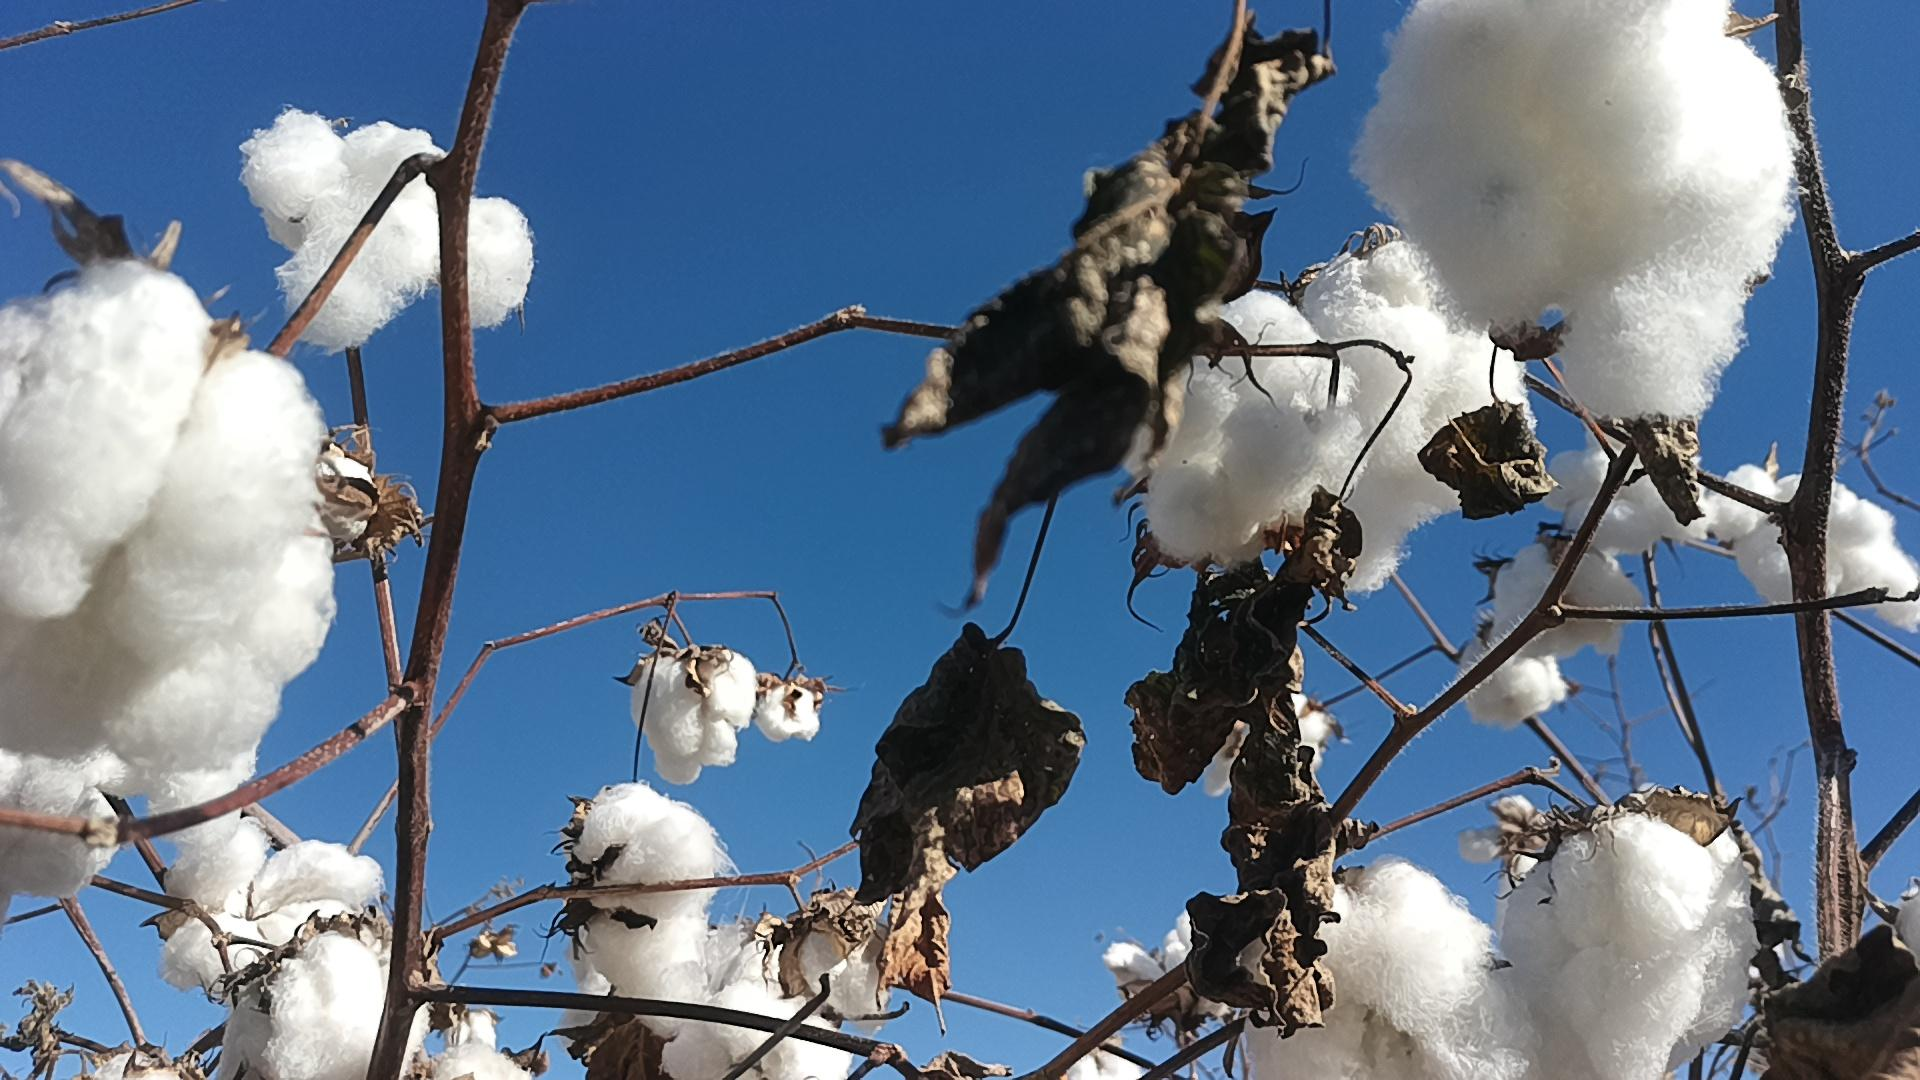cotton_ready: (1354, 0, 1793, 426), (0, 260, 334, 775), (1302, 241, 1535, 596), (237, 107, 535, 353), (1499, 815, 1755, 1080), (1247, 861, 1527, 1080), (1146, 287, 1362, 560), (574, 926, 845, 1080), (1696, 467, 1920, 630), (580, 787, 725, 1033), (156, 836, 385, 986), (212, 938, 429, 1080), (0, 750, 136, 926), (1486, 535, 1648, 667), (1540, 423, 1713, 546), (634, 647, 758, 787), (798, 895, 910, 1019), (154, 733, 262, 848), (1465, 634, 1569, 725), (1105, 915, 1204, 1007), (311, 455, 368, 550)
